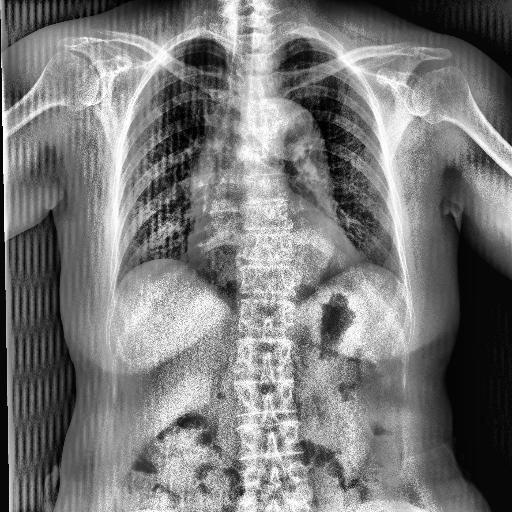0- Aortic enlargement: (188, 94, 344, 305), (178, 84, 336, 190), (192, 92, 349, 186)
3- Cardiomegaly: (172, 204, 372, 279)
